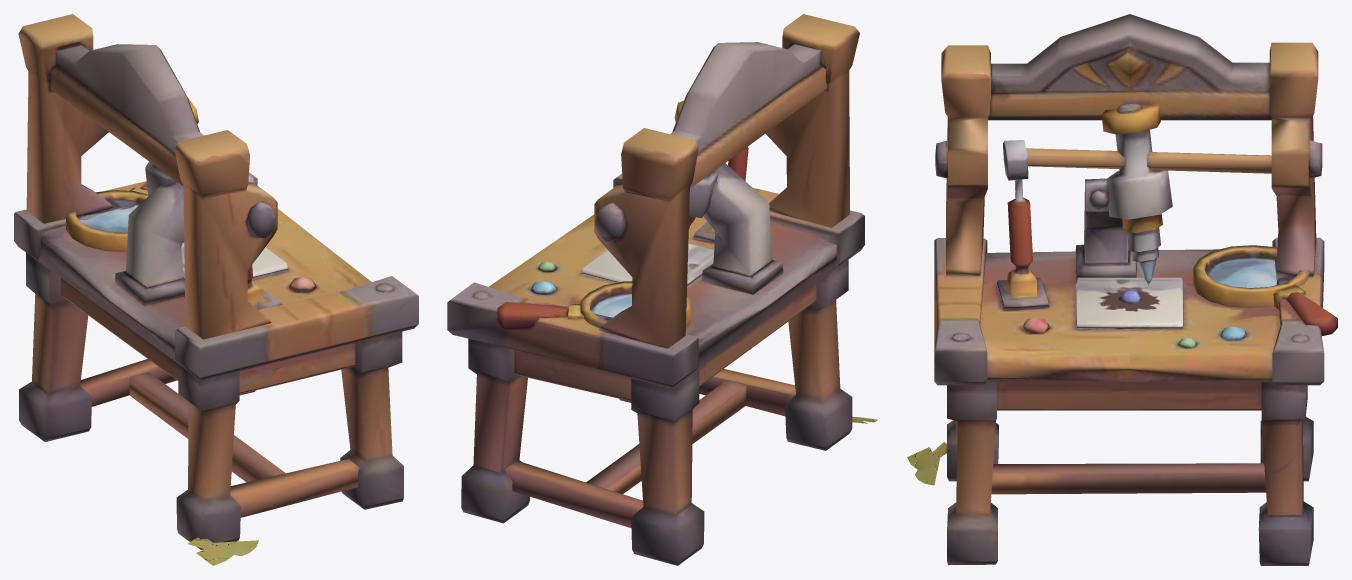
File: jewelcrafting_bench.glb
The picture shows the model from 3 angles, left to right: view 1: azimuth 30°, elevation 25°; view 2: azimuth 150°, elevation 25°; view 3: azimuth 270°, elevation 25°; orthographic projection. The views are drawn at different scales.
Visible parts, largest first — view 1: tripo_node_c5f29c10-0406-4879-9059-1f9c4c48cb6b; view 2: tripo_node_c5f29c10-0406-4879-9059-1f9c4c48cb6b; view 3: tripo_node_c5f29c10-0406-4879-9059-1f9c4c48cb6b.
Part boxes in pixels (left/top/right/bottom): tripo_node_c5f29c10-0406-4879-9059-1f9c4c48cb6b: left=14, top=14, right=418, bottom=565; tripo_node_c5f29c10-0406-4879-9059-1f9c4c48cb6b: left=447, top=14, right=877, bottom=565; tripo_node_c5f29c10-0406-4879-9059-1f9c4c48cb6b: left=907, top=14, right=1337, bottom=565.
Size of the model in its own units: 0.4949 by 0.9 by 0.7767.
1 material, 1 textured.
